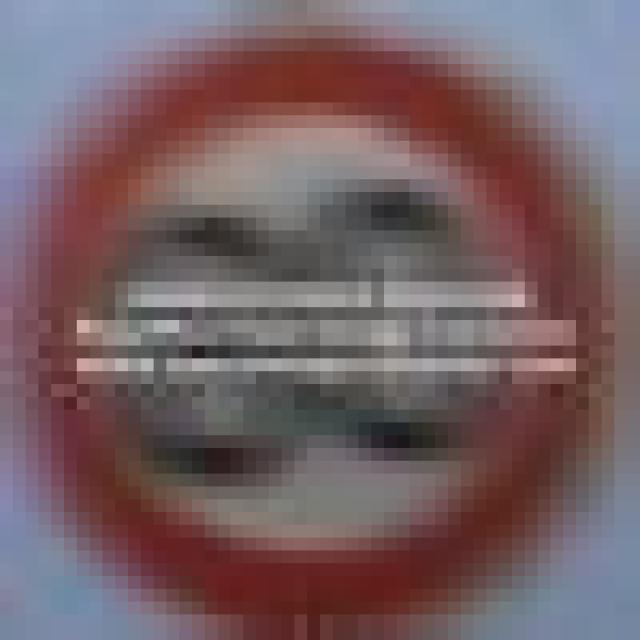speed_limit_50: (26, 26, 588, 602)
